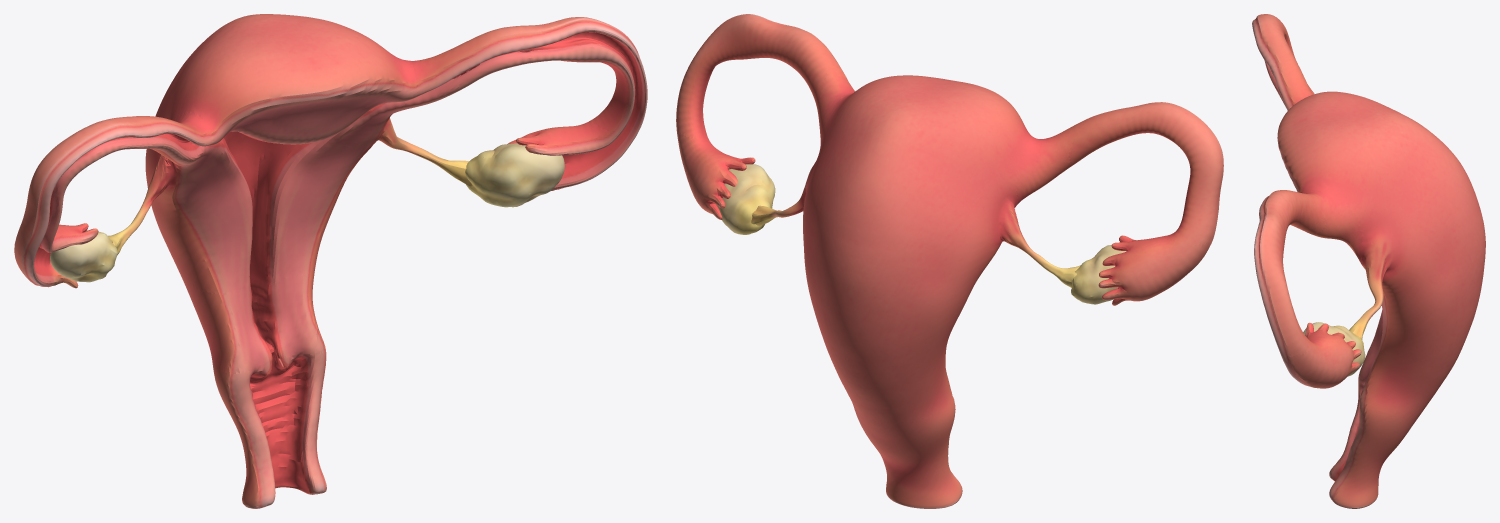
File: FRep.fbx
3 views of the same model, side by side, from view 1: azimuth 30°, elevation 25°; view 2: azimuth 150°, elevation 25°; view 3: azimuth 270°, elevation 25° (orthographic). The views are drawn at different scales.
Visible parts, largest first — view 1: Uterus, FallopianTube3, polySurface19, Vagina, Cervix, Ovary; view 2: Uterus, FallopianTube3, polySurface19, Vagina, Cervix, Ovary; view 3: Uterus, FallopianTube3, polySurface19, Cervix, Vagina, Ovary.
Part boxes in pixels (bbox=[...]): Uterus: bbox=[145, 14, 438, 290]; FallopianTube3: bbox=[14, 17, 647, 263]; polySurface19: bbox=[14, 32, 640, 355]; Vagina: bbox=[212, 347, 326, 508]; Cervix: bbox=[179, 258, 325, 373]; Ovary: bbox=[50, 143, 564, 282]; Uterus: bbox=[801, 75, 1033, 362]; FallopianTube3: bbox=[676, 14, 1223, 248]; polySurface19: bbox=[676, 37, 1211, 305]; Vagina: bbox=[854, 400, 962, 508]; Cervix: bbox=[825, 343, 953, 424]; Ovary: bbox=[716, 164, 1126, 304]; Uterus: bbox=[1277, 91, 1485, 352]; FallopianTube3: bbox=[1252, 14, 1314, 356]; polySurface19: bbox=[1273, 69, 1383, 388]; Cervix: bbox=[1359, 313, 1469, 412]; Vagina: bbox=[1329, 375, 1426, 508]; Ovary: bbox=[1303, 322, 1365, 376].
Bounding box in the file's own units: 409 × 297 × 164.
